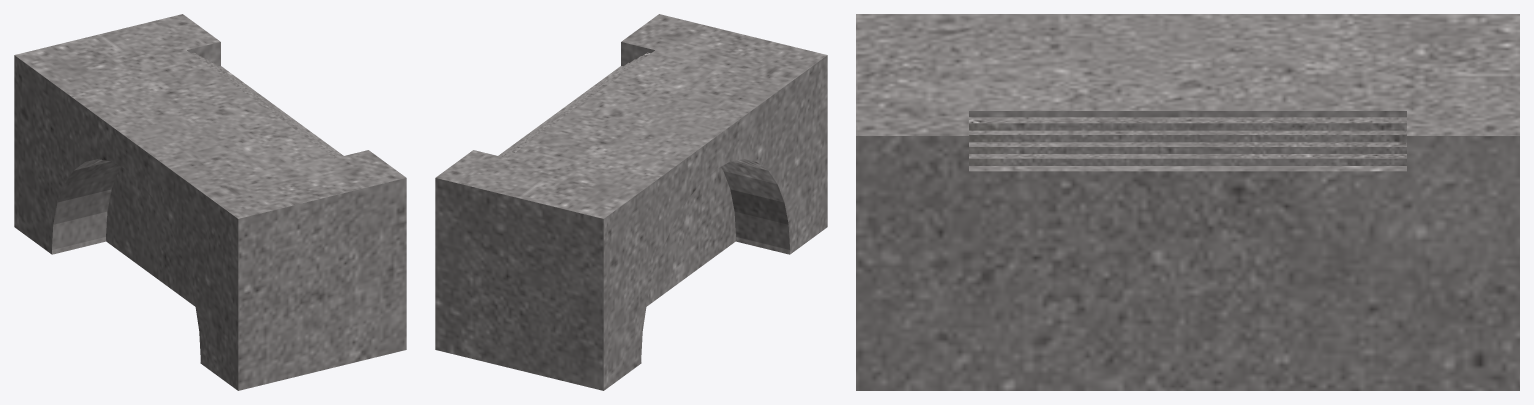
File: map_ride_a_dino_start.fbx
3 renders of one model, left to right at view 1: azimuth 30°, elevation 25°; view 2: azimuth 150°, elevation 25°; view 3: azimuth 270°, elevation 25°, orthographic. The views are drawn at different scales.
Parts seen in each view (by area): view 1: Cube.001; view 2: Cube.001; view 3: Cube.001.
Boxes of the visible parts, x1=… form: Cube.001: x1=14, y1=14, x2=406, y2=390; Cube.001: x1=435, y1=14, x2=827, y2=390; Cube.001: x1=856, y1=14, x2=1519, y2=390.
Bounding box in the file's own units: 521 × 509 × 1200.
1 material, 1 textured.
